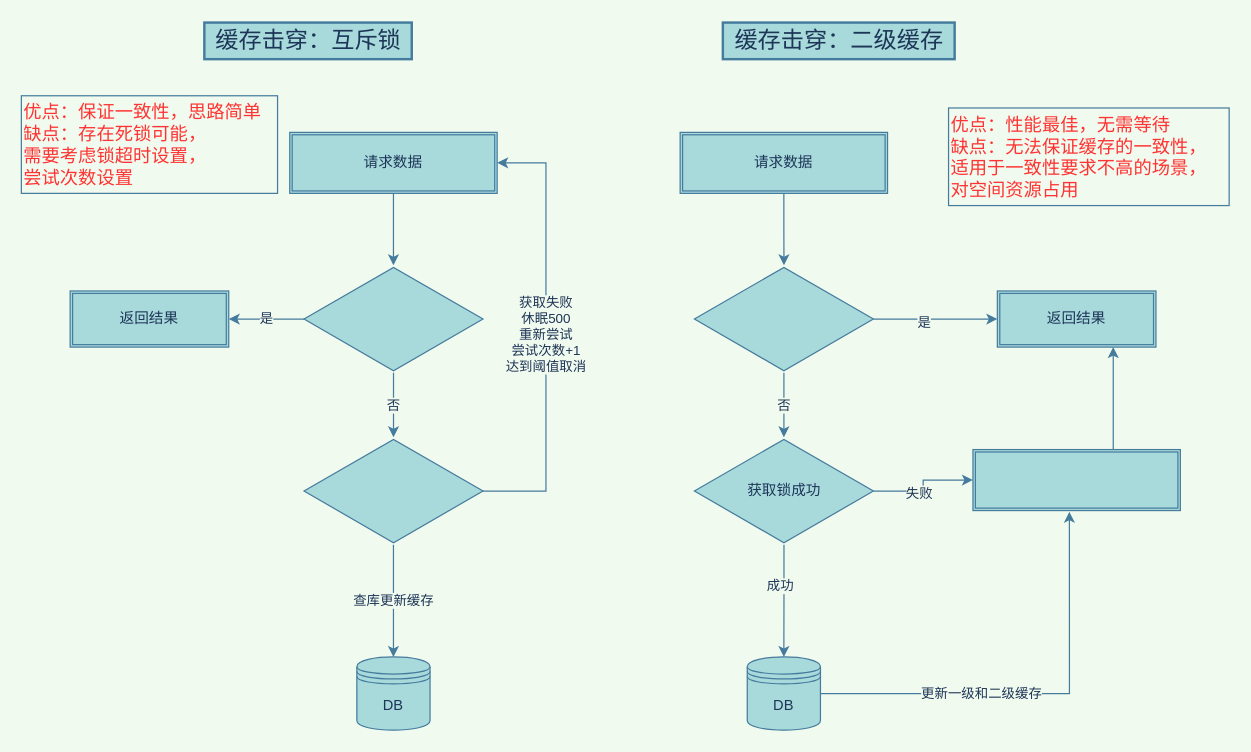
Image size: 1251x752. Some labels were removed from this diagram. Here are the shapes that lost their labels. From the top down, the centre of each, then its label:
At point 393,318: "缓存是否有数据 (失效时间短)".
At point 783,318: "一级缓存是否有数据 (失效时间短)".
At point 393,490: "尝试获取锁成功".
At point 1076,479: "二级缓存 (失效时间长)".
